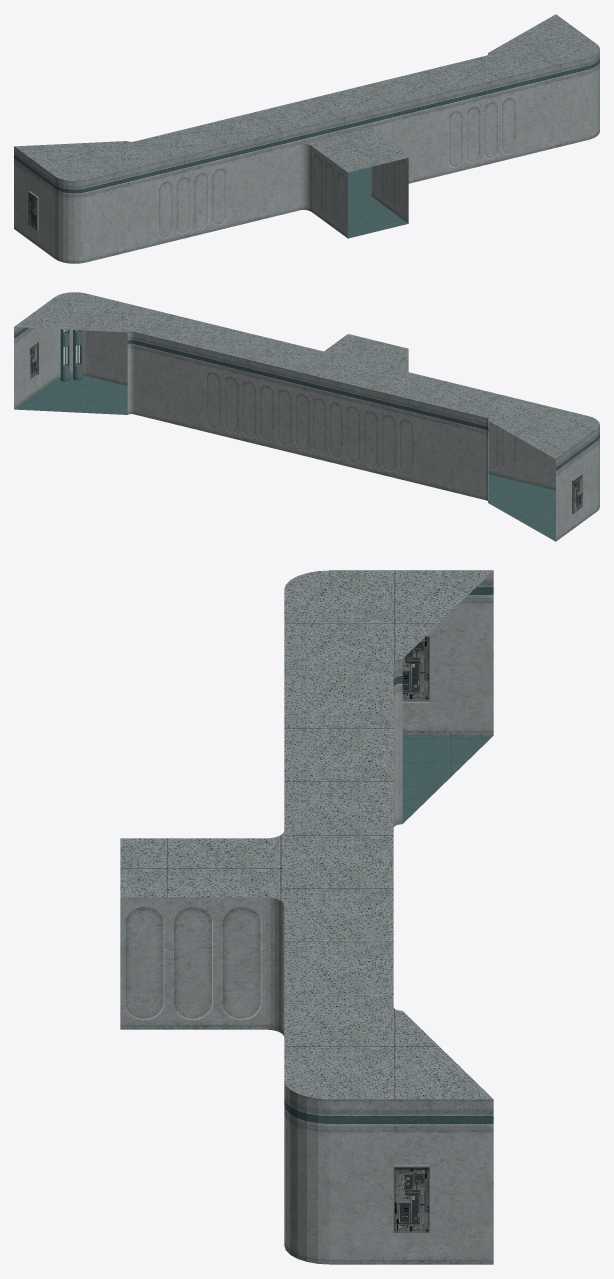
The model's file is mun_corl_hospital_s02_r1_entrya_mesh.fbx.
3 views of the same model, one above another, from view 1: azimuth 30°, elevation 25°; view 2: azimuth 150°, elevation 25°; view 3: azimuth 270°, elevation 25° (orthographic). The views are drawn at different scales.
Visible parts, largest first — view 1: mesh_node; view 2: mesh_node; view 3: mesh_node.
Boxes of the visible parts, box(x1,y1,x2,y2) form: mesh_node: box(14, 14, 599, 263); mesh_node: box(14, 292, 599, 541); mesh_node: box(120, 570, 493, 1264).
Bounding box in the file's own units: 34.55 × 5 × 10.25.
